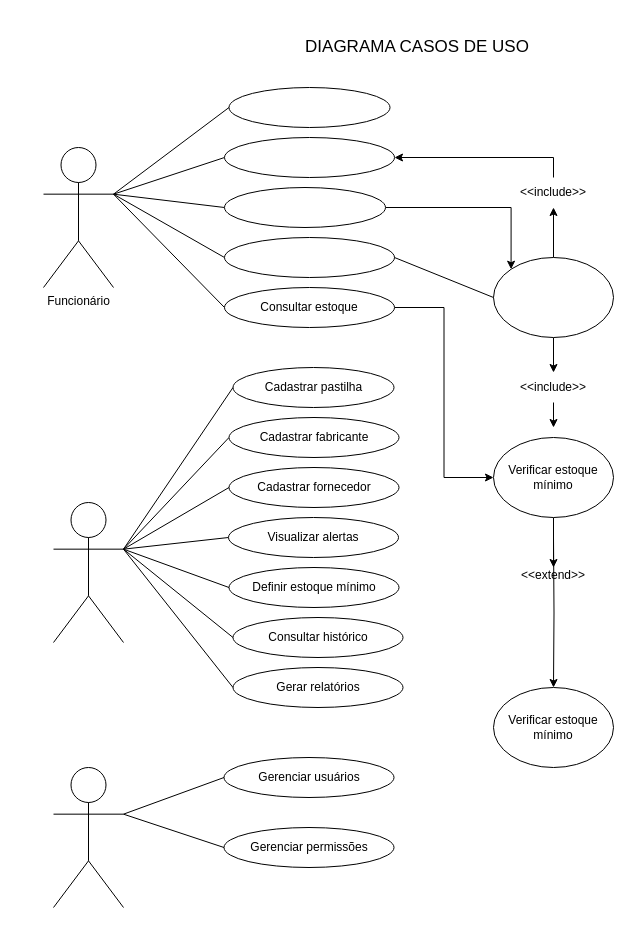
The diagram is 631 pixels wide and 945 high, and some of its shapes have lost their labels. Each missing label, with the centre of its shape:
"Administrador" belongs at point (88, 837).
"Atualizar estoque" belongs at point (553, 297).
"Autenticar usuário" belongs at point (309, 107).
"Ler código de barras" belongs at point (309, 157).
"Registrar entrada" belongs at point (305, 207).
"Registrar saída" belongs at point (309, 257).
"Responsável pelo Estoque" belongs at point (88, 572).
